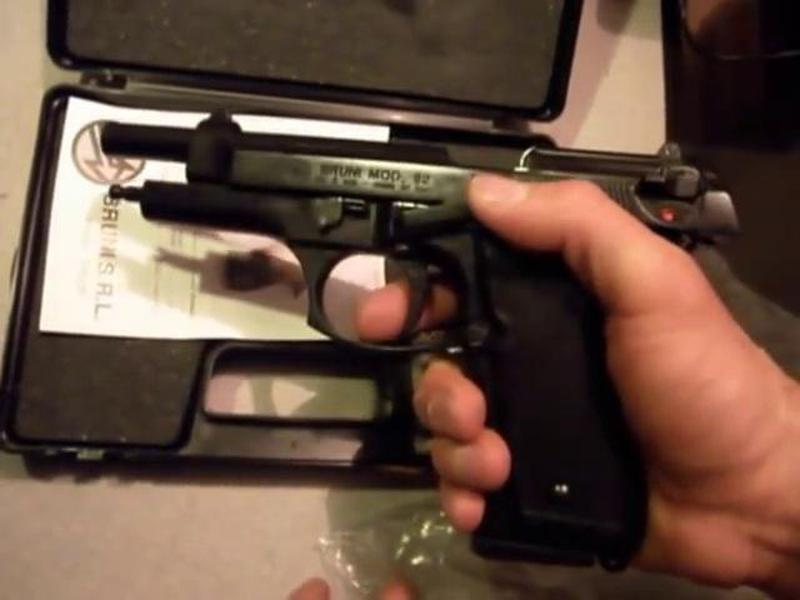Pistola: (86, 117, 737, 564)
